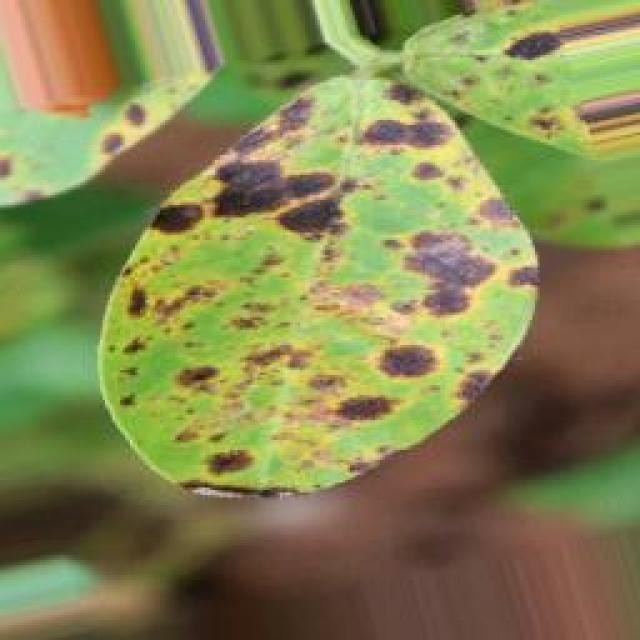Yellowish: (6, 0, 640, 568)
